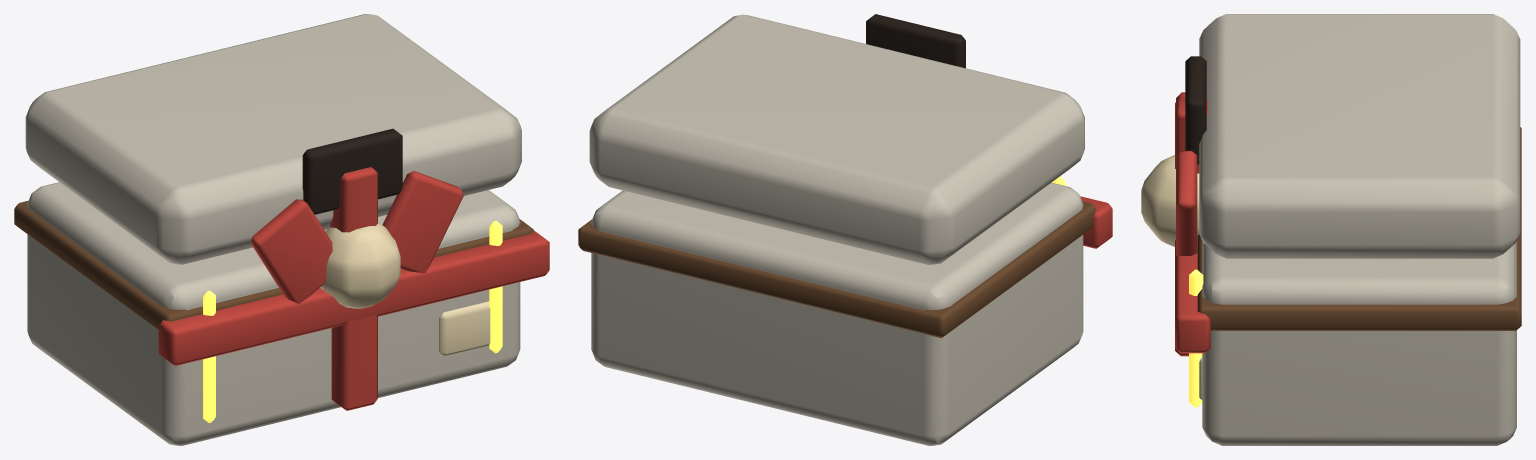
The model's file is prop_coffer_doorstep.glb.
3 renders of one model, left to right at view 1: azimuth 30°, elevation 25°; view 2: azimuth 150°, elevation 25°; view 3: azimuth 270°, elevation 25°, orthographic. The views are drawn at different scales.
Visible parts, largest first — view 1: prop_coffer_doorstep; view 2: prop_coffer_doorstep; view 3: prop_coffer_doorstep.
Part boxes in pixels (bbox=[...]): prop_coffer_doorstep: bbox=[14, 14, 549, 445]; prop_coffer_doorstep: bbox=[578, 14, 1112, 445]; prop_coffer_doorstep: bbox=[1141, 14, 1521, 445].
Bounding box in the file's own units: 0.636 × 0.4402 × 0.5321.
Materials: 1 (1 with a texture image).
